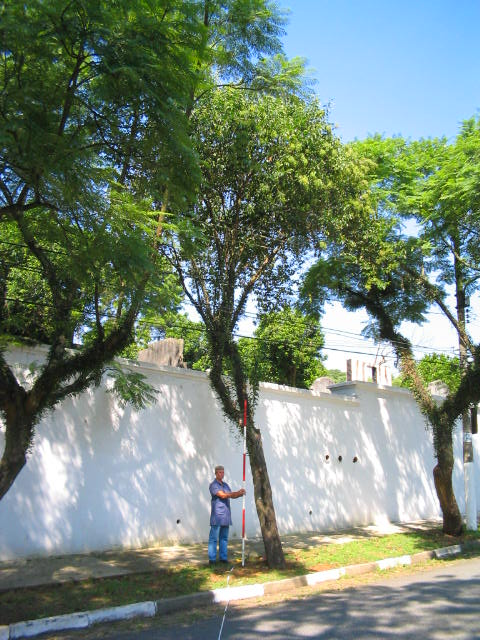crown: (3, 3, 288, 331), (132, 79, 403, 303), (313, 114, 478, 314)
stem: (246, 429, 293, 570), (423, 419, 474, 536)
stick: (235, 402, 251, 564)
tree: (1, 1, 288, 589), (130, 78, 404, 572), (312, 112, 478, 537)
